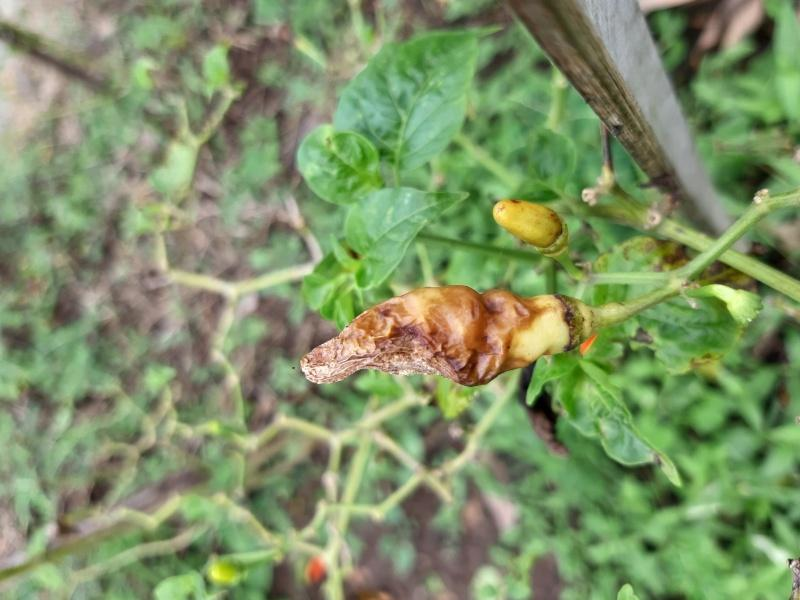antraknosa: (301, 279, 581, 384), (492, 196, 557, 254)
